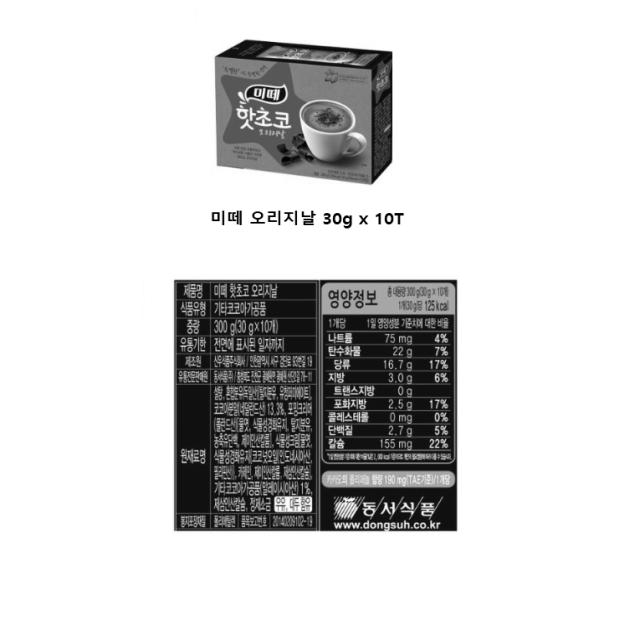Nutrition Label: (317, 276, 460, 467)
